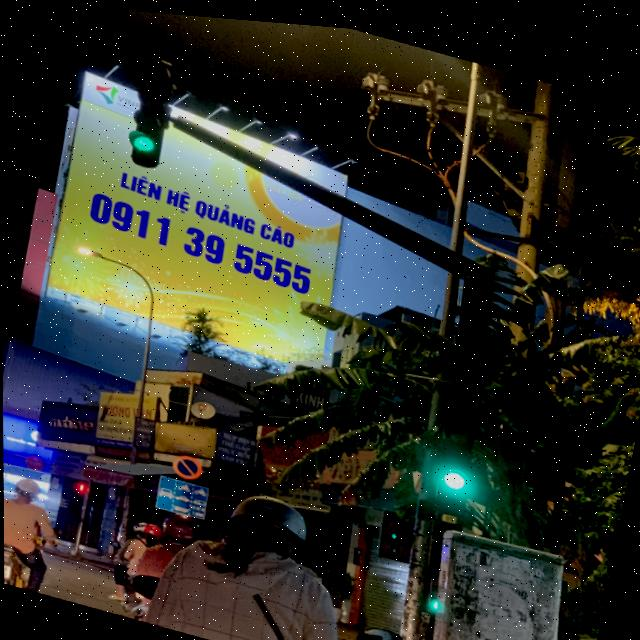Green: (420, 374, 500, 498), (116, 88, 177, 174)
